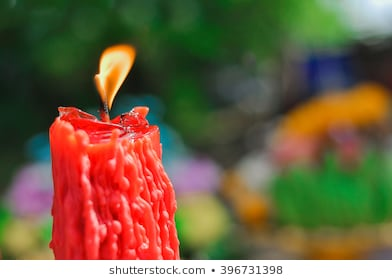Fire: (93, 44, 136, 106)
